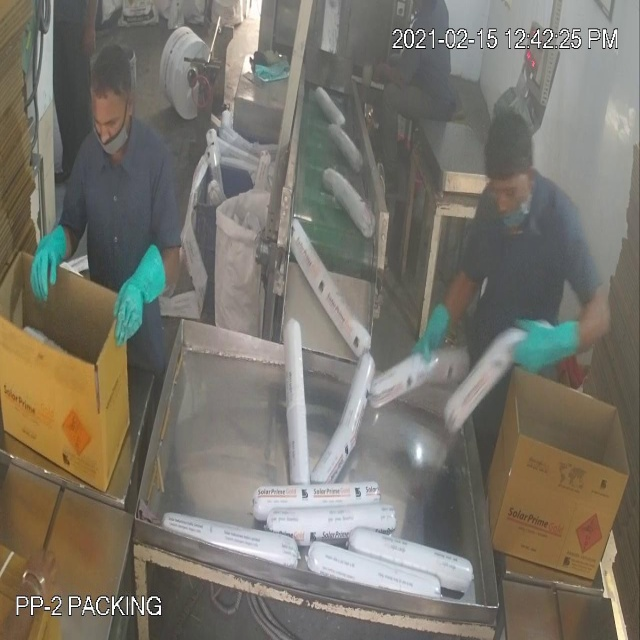Guantes: (97, 233, 172, 363), (509, 311, 594, 380), (23, 209, 75, 309)
